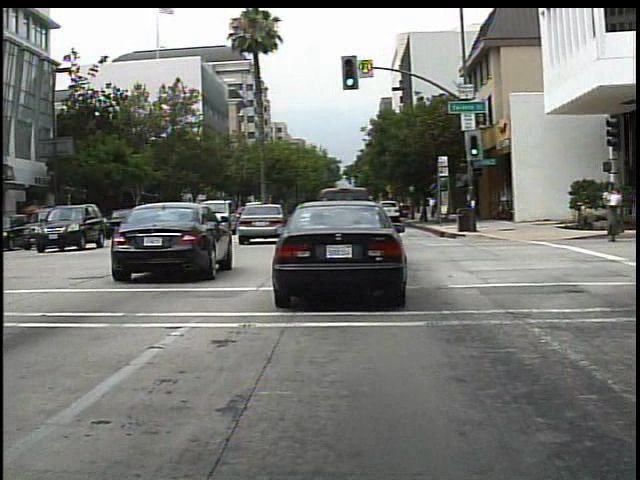person: (599, 180, 627, 249), (423, 191, 440, 223)
